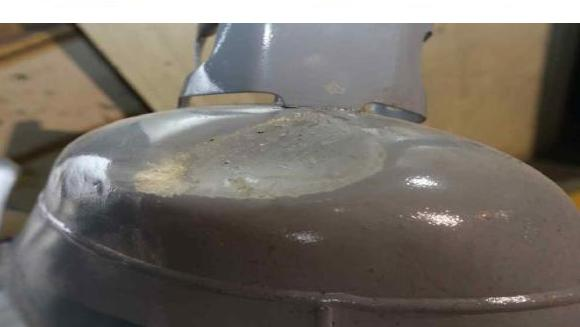cylinder: (1, 0, 580, 327)
